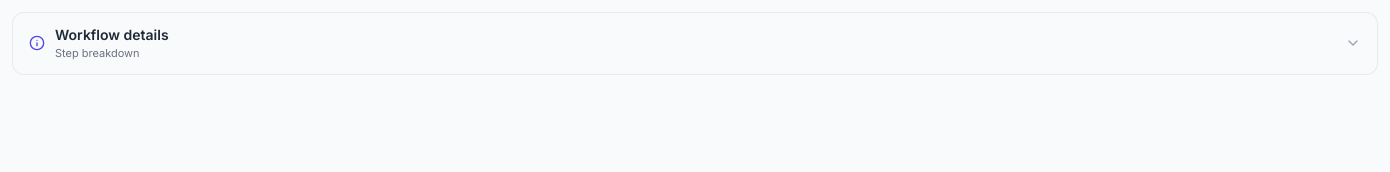
Test: InfoDisclosure components › toggles CollapsibleSection aria-expanded state smoothly
Click the button "Workflow details Step breakdown" at (112, 34), box [13,13,1377,74]
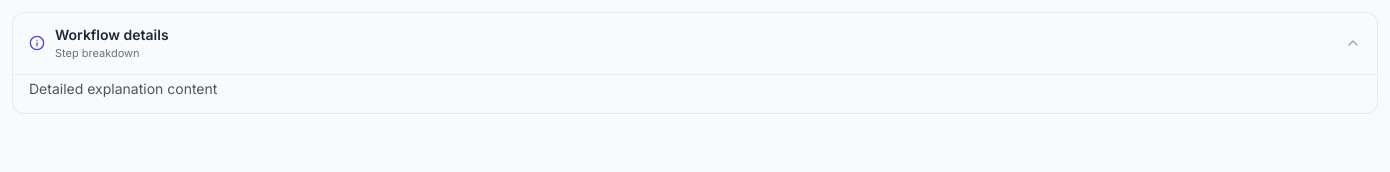
Result: the button "Workflow details Step breakdown" is expanded
Result: the text "Detailed explanation content" is shown at [29,80,217,96]
Click the button "Workflow details Step breakdown" at (112, 34), box [13,13,1377,74]
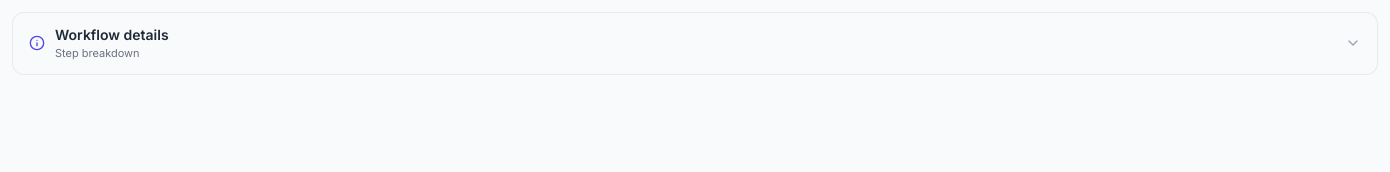
Result: the button "Workflow details Step breakdown" is collapsed at [13,13,1377,74]
